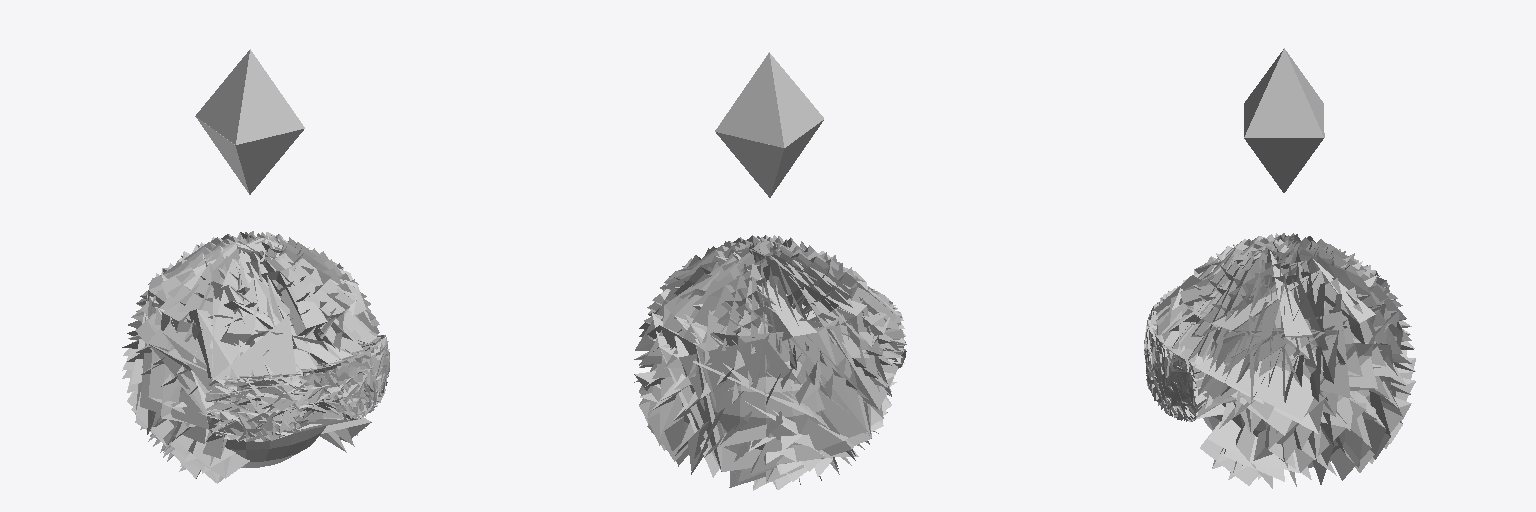
The model's file is accessories_only.obj.
3 renders of one model, left to right at view 1: azimuth 30°, elevation 25°; view 2: azimuth 150°, elevation 25°; view 3: azimuth 270°, elevation 25°, orthographic.
Visible parts, largest first — view 1: peg_head_ui pegman_head peg_head HyperNURBS HELMET HELMET1, peg_head_ui compass_point Pyramid_1, peg_head_ui compass_point Pyramid, Sphere; view 2: peg_head_ui pegman_head peg_head HyperNURBS HELMET HELMET1, peg_head_ui compass_point Pyramid_1, Sphere, peg_head_ui compass_point Pyramid; view 3: peg_head_ui pegman_head peg_head HyperNURBS HELMET HELMET1, peg_head_ui compass_point Pyramid_1, peg_head_ui compass_point Pyramid, Sphere.
Boxes of the visible parts, x1,y1,x2,y2 form: peg_head_ui pegman_head peg_head HyperNURBS HELMET HELMET1: [122, 231, 389, 483]; peg_head_ui compass_point Pyramid_1: [196, 49, 304, 144]; peg_head_ui compass_point Pyramid: [195, 116, 304, 194]; Sphere: [169, 420, 325, 467]; peg_head_ui pegman_head peg_head HyperNURBS HELMET HELMET1: [634, 235, 906, 490]; peg_head_ui compass_point Pyramid_1: [715, 52, 823, 147]; Sphere: [682, 294, 824, 449]; peg_head_ui compass_point Pyramid: [716, 120, 823, 197]; peg_head_ui pegman_head peg_head HyperNURBS HELMET HELMET1: [1144, 233, 1415, 488]; peg_head_ui compass_point Pyramid_1: [1244, 48, 1324, 137]; peg_head_ui compass_point Pyramid: [1244, 138, 1323, 192]; Sphere: [1203, 354, 1370, 467].
Size of the model in its own units: 103 by 178 by 107.